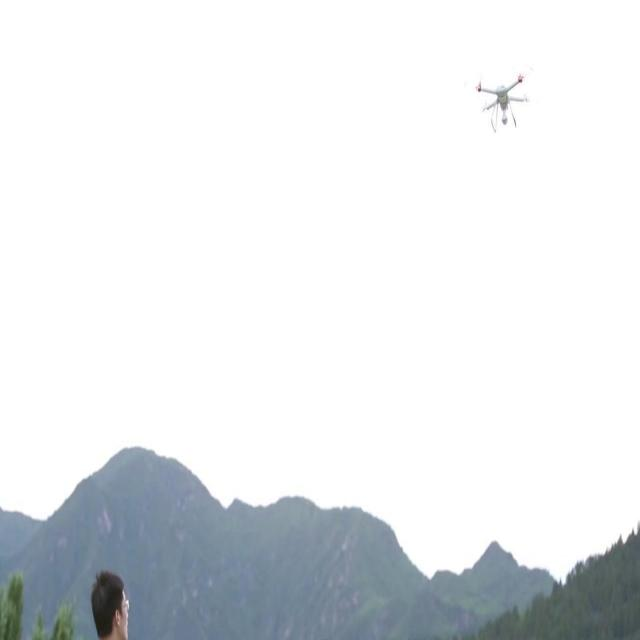UAV: (464, 66, 534, 132)
